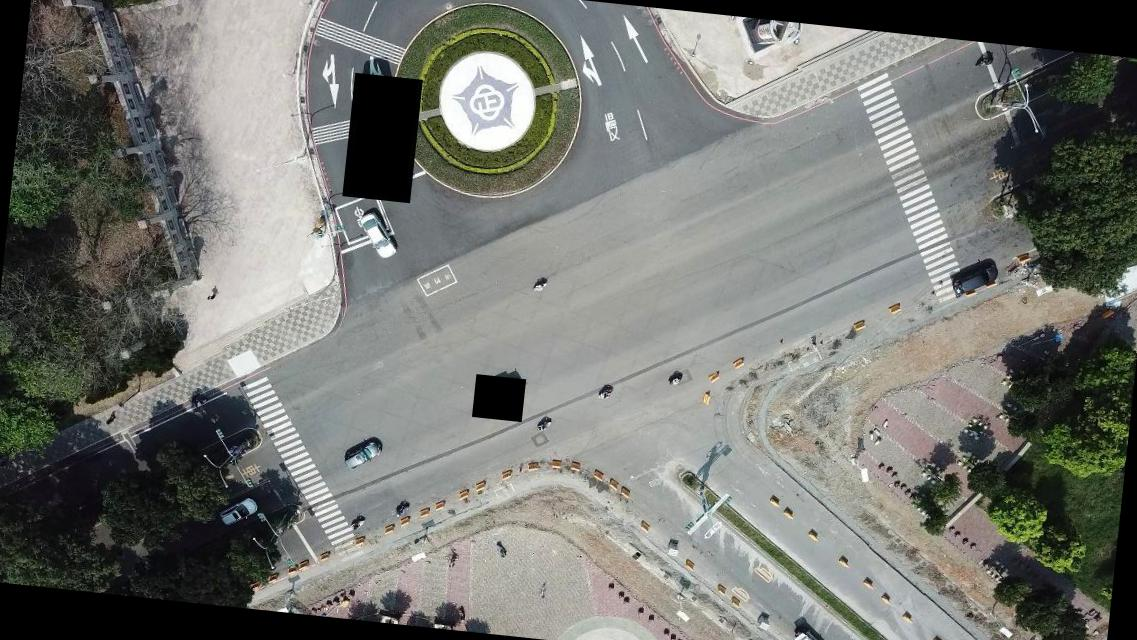vehicle: (356, 210, 400, 260), (950, 260, 1000, 302), (342, 435, 382, 472), (218, 494, 258, 530), (792, 627, 829, 639)
